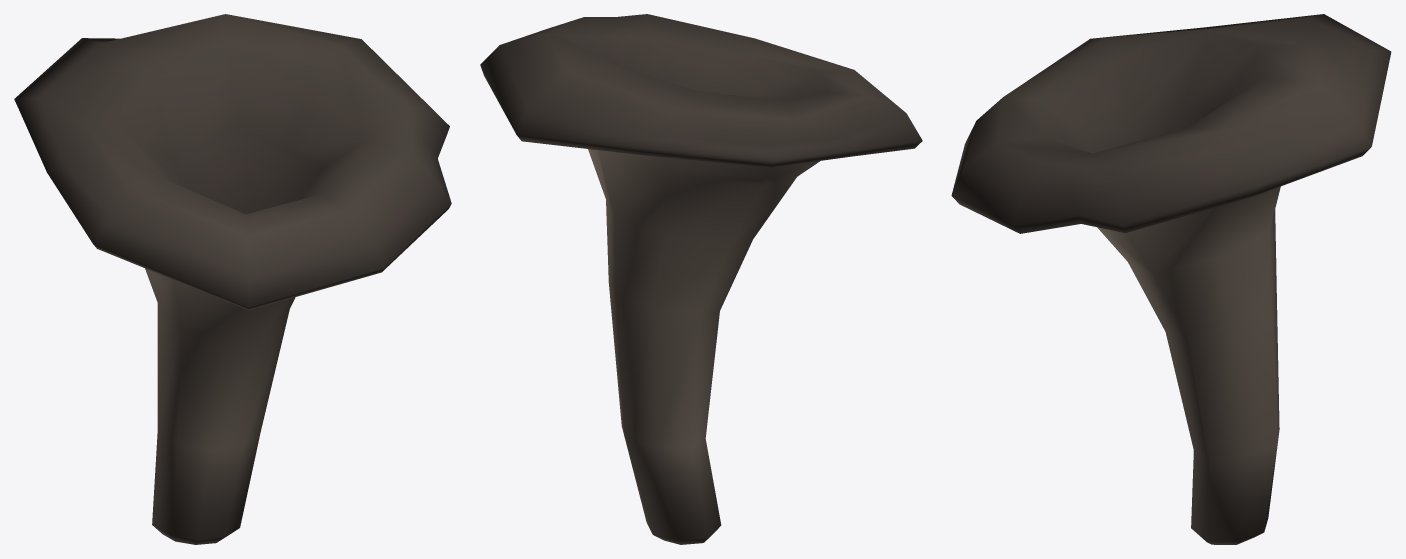
Rendered from SM_BlackTrumpet_C.fbx.
3 renders of one model, left to right at view 1: azimuth 30°, elevation 25°; view 2: azimuth 150°, elevation 25°; view 3: azimuth 270°, elevation 25°, orthographic. The views are drawn at different scales.
Visible parts, largest first — view 1: SM_BlackTrumpet_C; view 2: SM_BlackTrumpet_C; view 3: SM_BlackTrumpet_C.
Part boxes in pixels (x1,y1,x2,y2): SM_BlackTrumpet_C: (14,14,451,544); SM_BlackTrumpet_C: (480,14,922,544); SM_BlackTrumpet_C: (951,14,1391,544).
Bounding box in the file's own units: 19.73 × 23.93 × 19.55.
